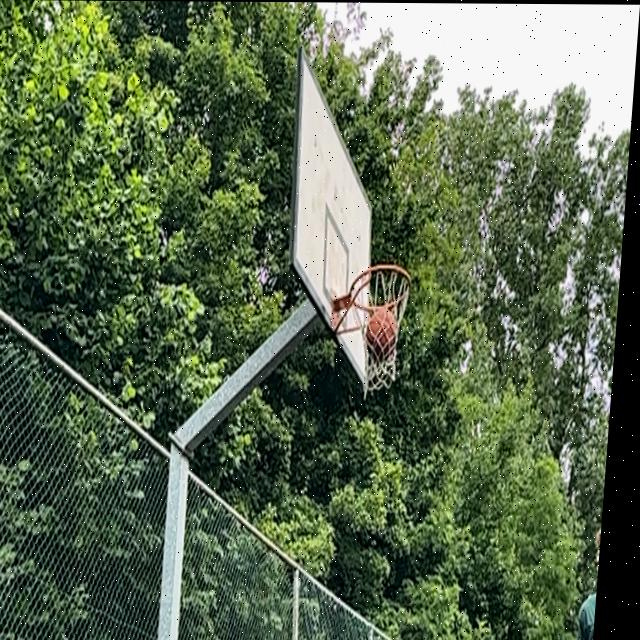Goal: (363, 308, 400, 360)
